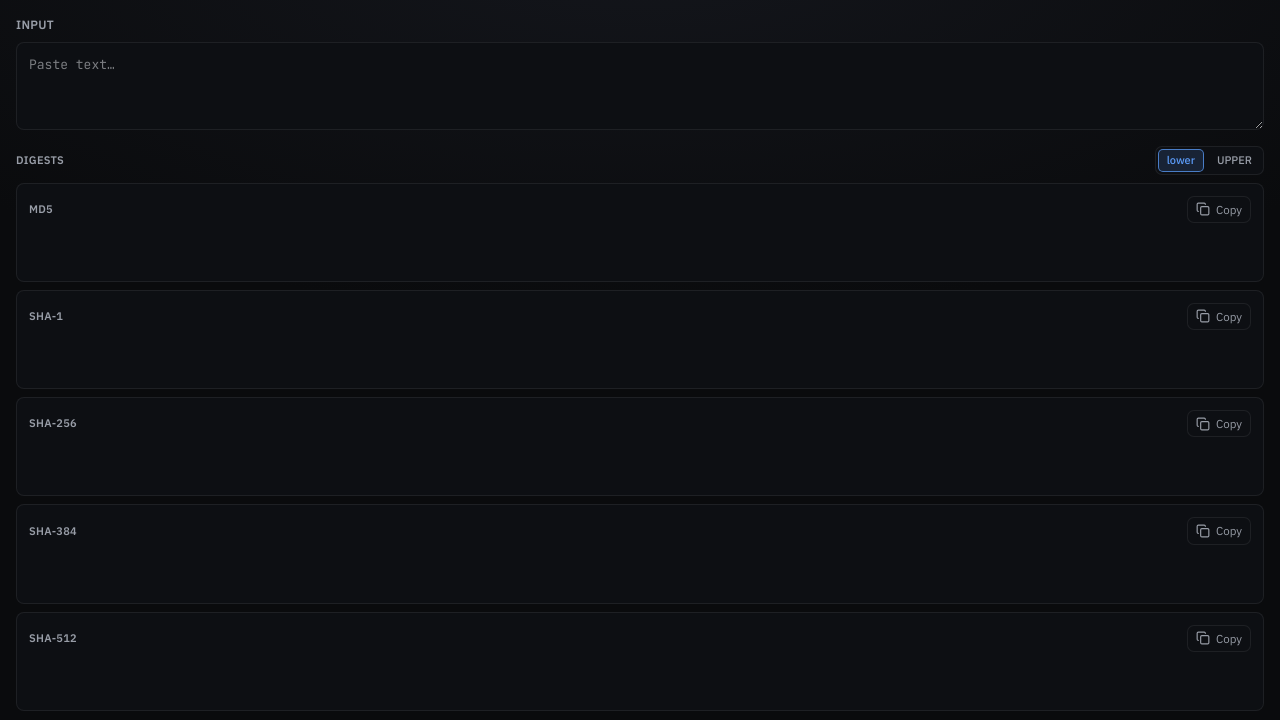
HashTool › the casing toggle flips hex output to uppercase and back
This screenshot has width=1280, height=720.
Type "abc" into the text box with id "hash-input".
click(640, 86); type("abc")  # box [16,42,1264,130]
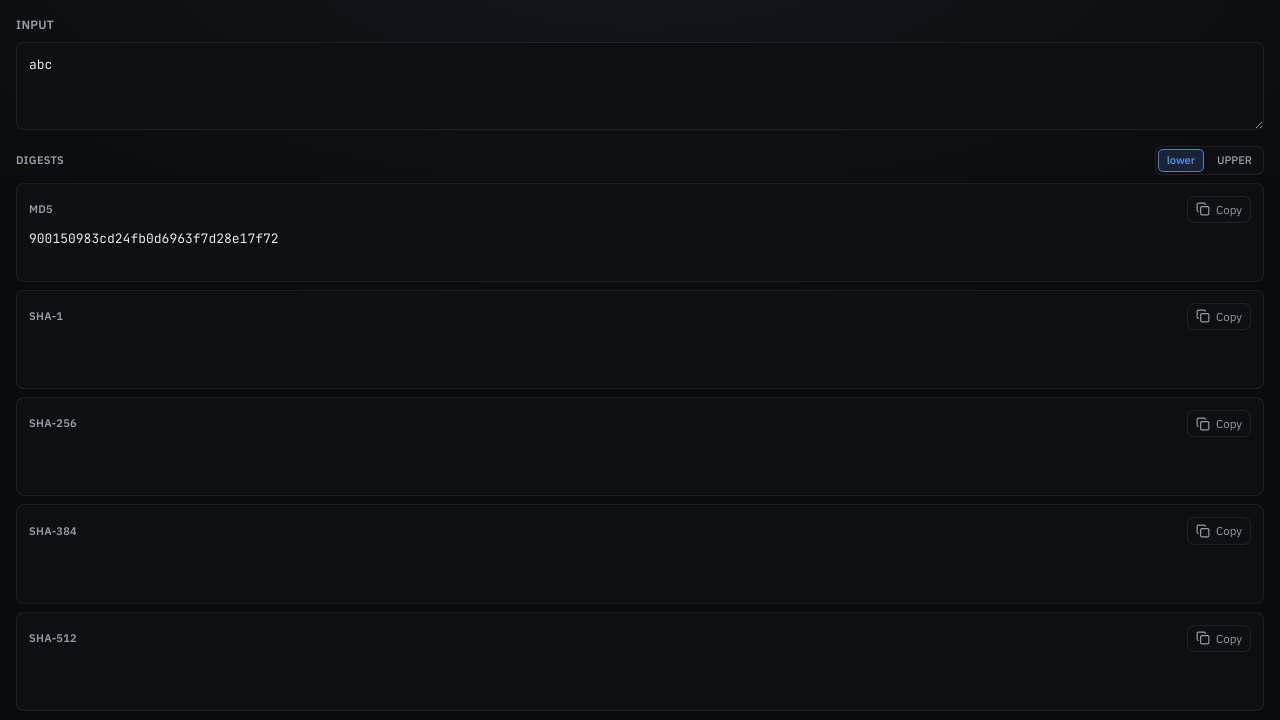
Check: the text "900150983cd24fb0d6963f7d28e17f72" is shown, box [29,230,279,247]
Click the button "UPPER".
click(1234, 160)  # box [1208,149,1261,172]
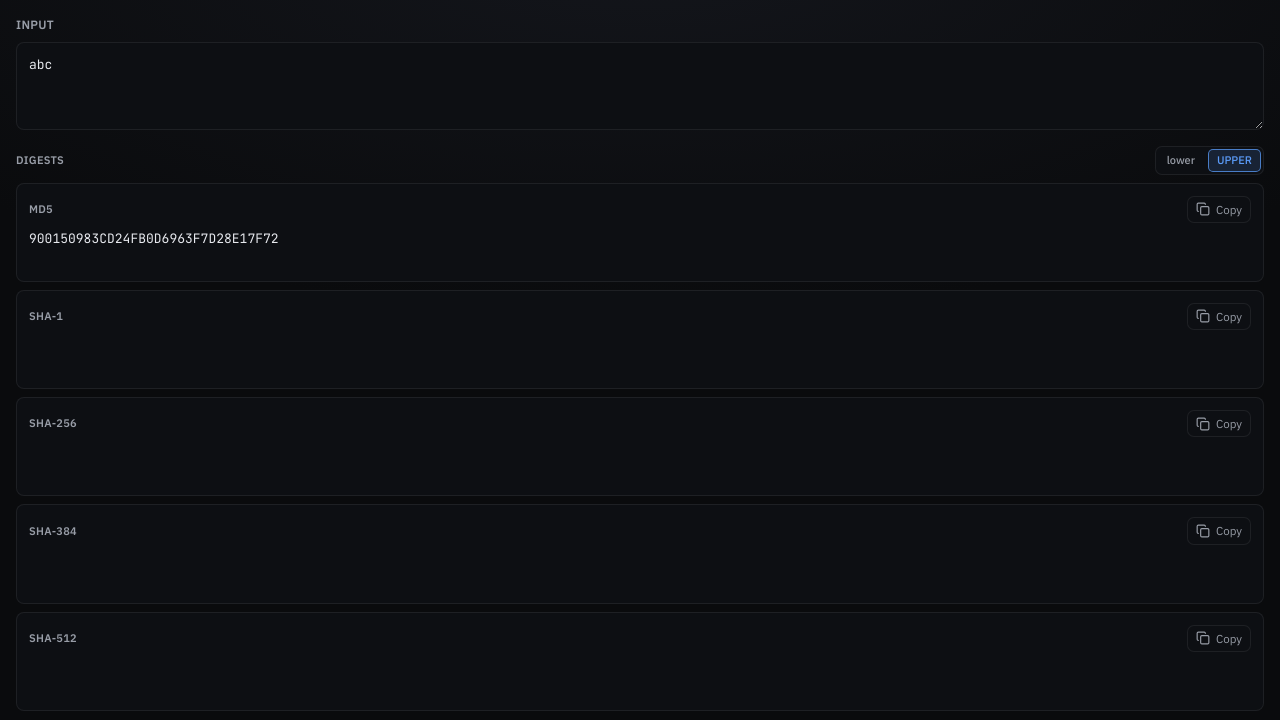
Click the button "lower".
click(1181, 160)  # box [1158,149,1204,172]
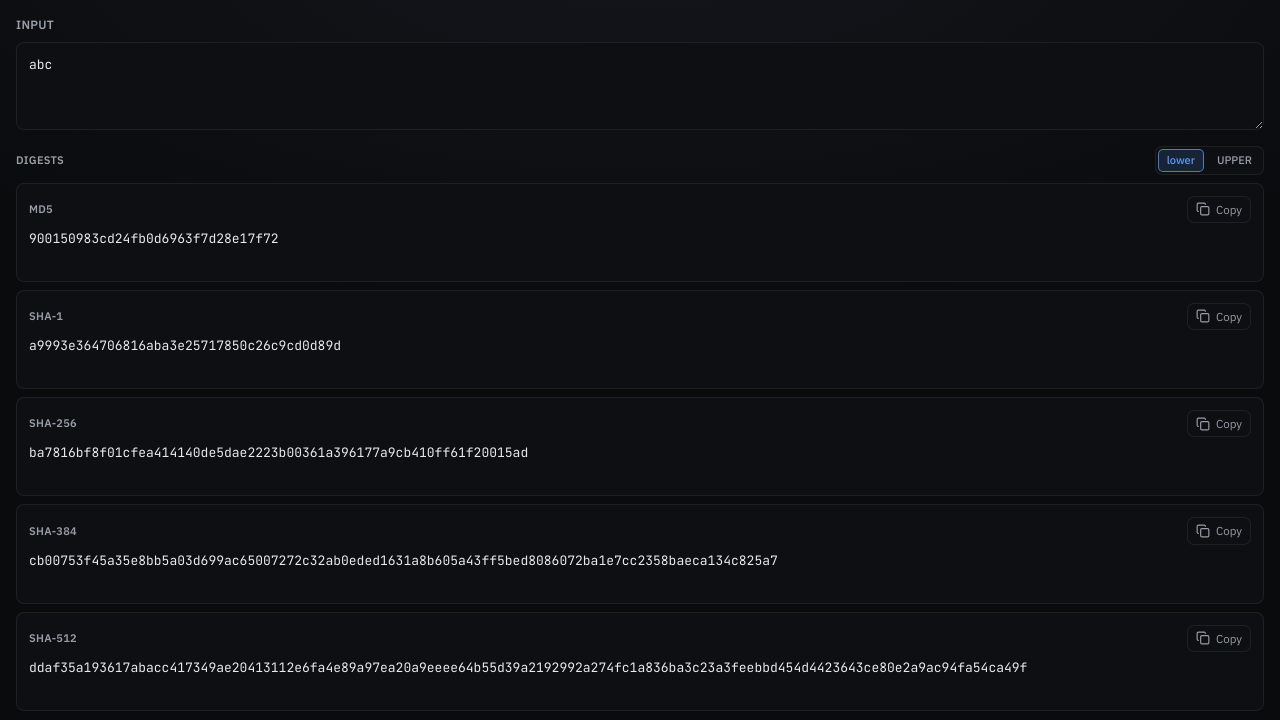
Check: the text "900150983cd24fb0d6963f7d28e17f72" is shown, box [29,230,279,247]
